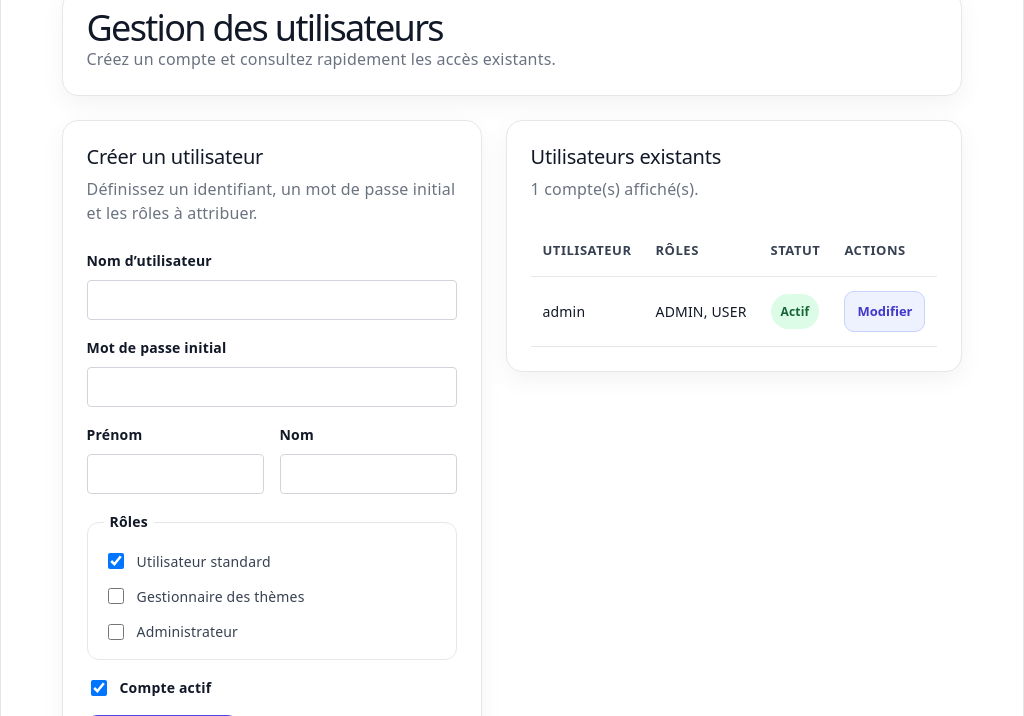
Scenario: UserAdminPage › shows an error when updating a user fails
The width and height of the screenshot is (1024, 716).
expect the cell "admin" is shown: met, box x1=530 y1=276 x2=644 y2=347
Click the button named "Modifier admin": point(885, 312) x1=844 y1=291 x2=926 y2=332
(page scrolled)
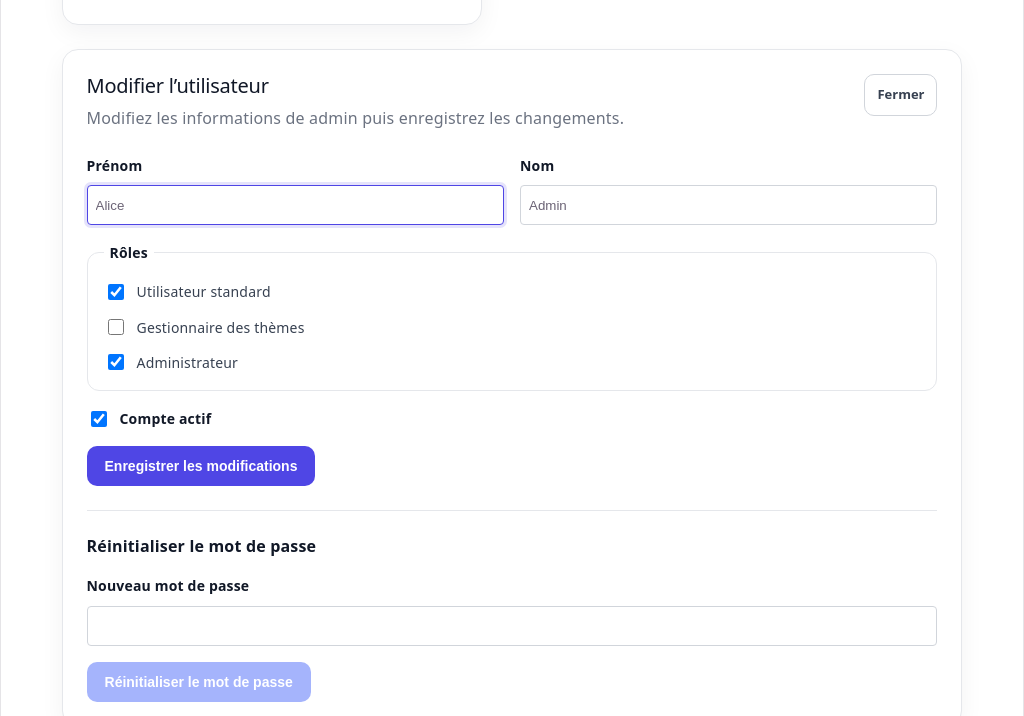
Click the button "Enregistrer les modifications": point(201, 466) x1=86 y1=446 x2=316 y2=486
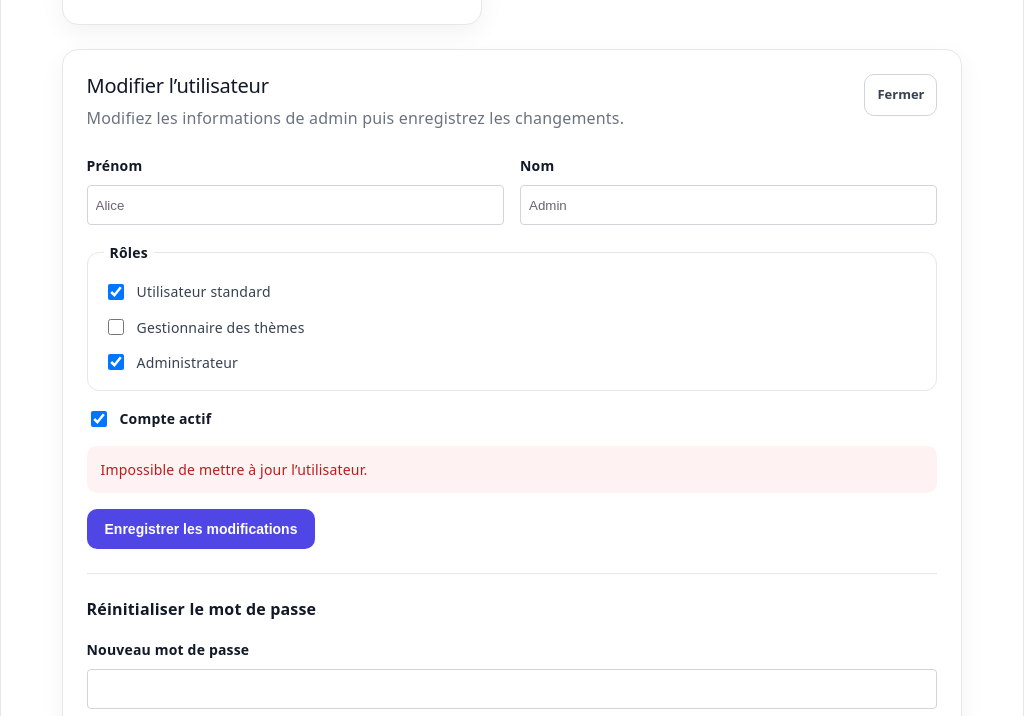
expect the message reads "Impossible de mettre à jour l’utilisateur.": met, box x1=100 y1=460 x2=367 y2=479
